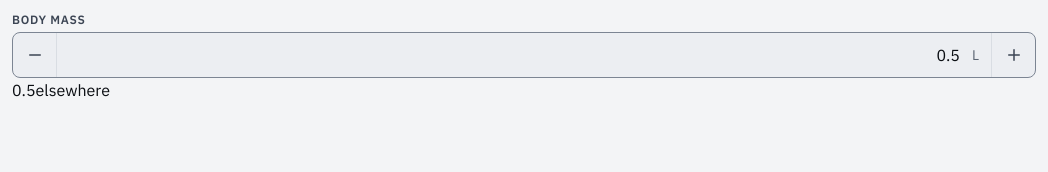
Test case: NumberField › steps from the decimal reading of a lone separator, and commits it while typing
Replace the text in the number field labelled "Body mass" with "1,250": (514, 55) [57, 33, 972, 77]
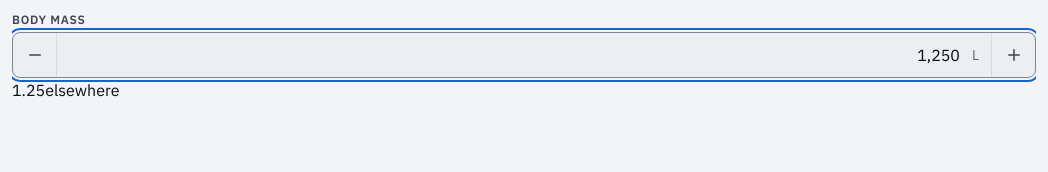
Press Arrowup
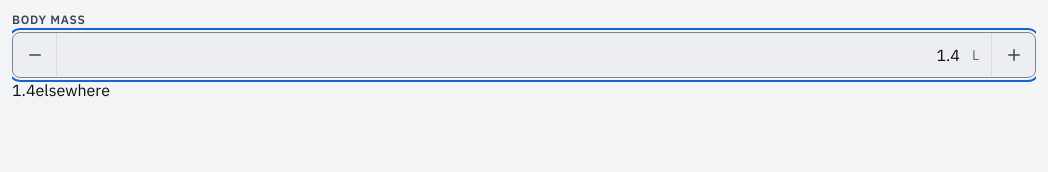
Result: the text with test id "stored" reads "1.4" at [12, 80, 36, 100]
Replace the text in the number field labelled "Body mass" with "1,250": (514, 55) [57, 33, 972, 77]
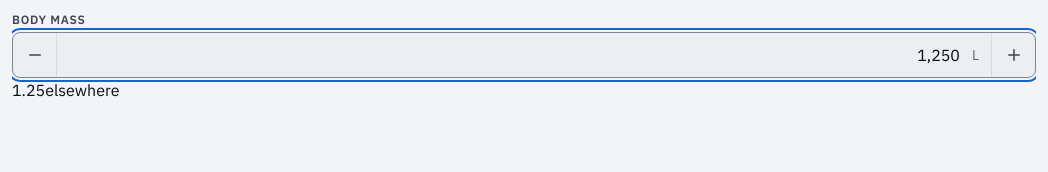
Click the button named "Increase Body mass": (1013, 55) [991, 33, 1035, 77]
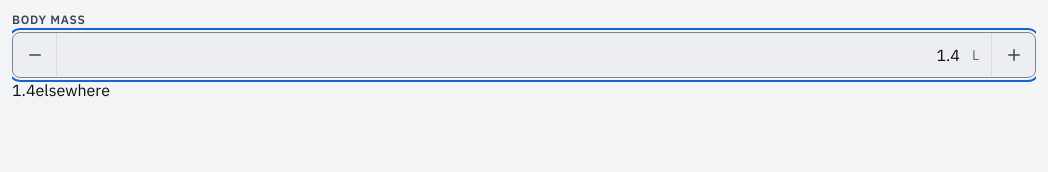
Result: the text with test id "stored" reads "1.4" at [12, 80, 36, 100]
Replace the text in the number field labelled "Body mass" with "1,250": (514, 55) [57, 33, 972, 77]
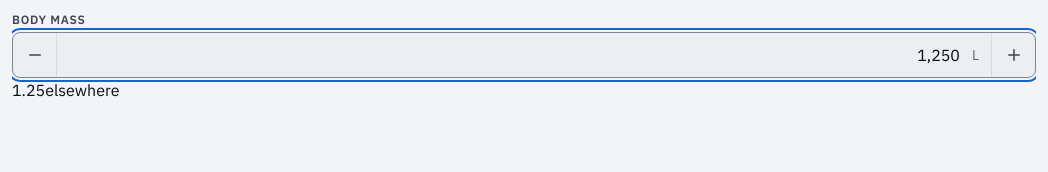
Result: the text with test id "stored" reads "1.25" at [12, 80, 45, 100]
